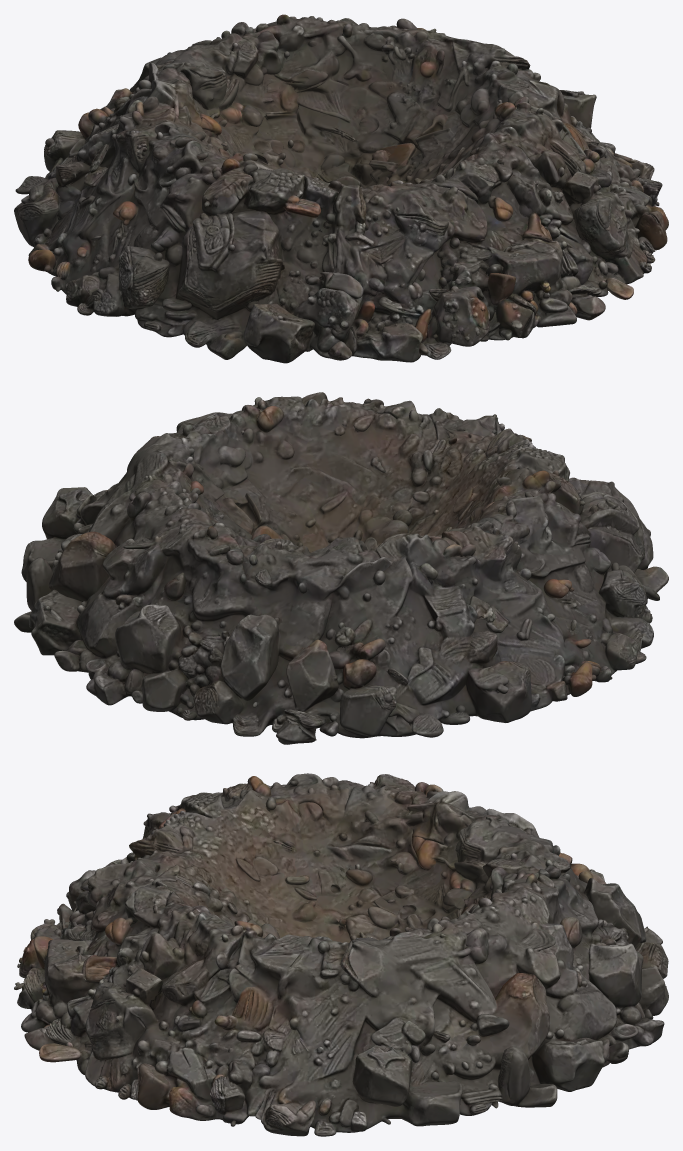
File: meteor-crater.glb
The picture shows the model from 3 angles, top to bottom: view 1: azimuth 30°, elevation 25°; view 2: azimuth 150°, elevation 25°; view 3: azimuth 270°, elevation 25°; orthographic projection.
Visible parts, largest first — view 1: tripo_node_c4c79586-d304-4a19-a134-b19673d17813; view 2: tripo_node_c4c79586-d304-4a19-a134-b19673d17813; view 3: tripo_node_c4c79586-d304-4a19-a134-b19673d17813.
Boxes of the visible parts, bbox=[...] form: tripo_node_c4c79586-d304-4a19-a134-b19673d17813: bbox=[14, 14, 668, 363]; tripo_node_c4c79586-d304-4a19-a134-b19673d17813: bbox=[14, 392, 668, 744]; tripo_node_c4c79586-d304-4a19-a134-b19673d17813: bbox=[14, 773, 668, 1136].
Size of the model in its own units: 0.9786 by 0.2389 by 0.9647.
Materials: 1 (1 with a texture image).
